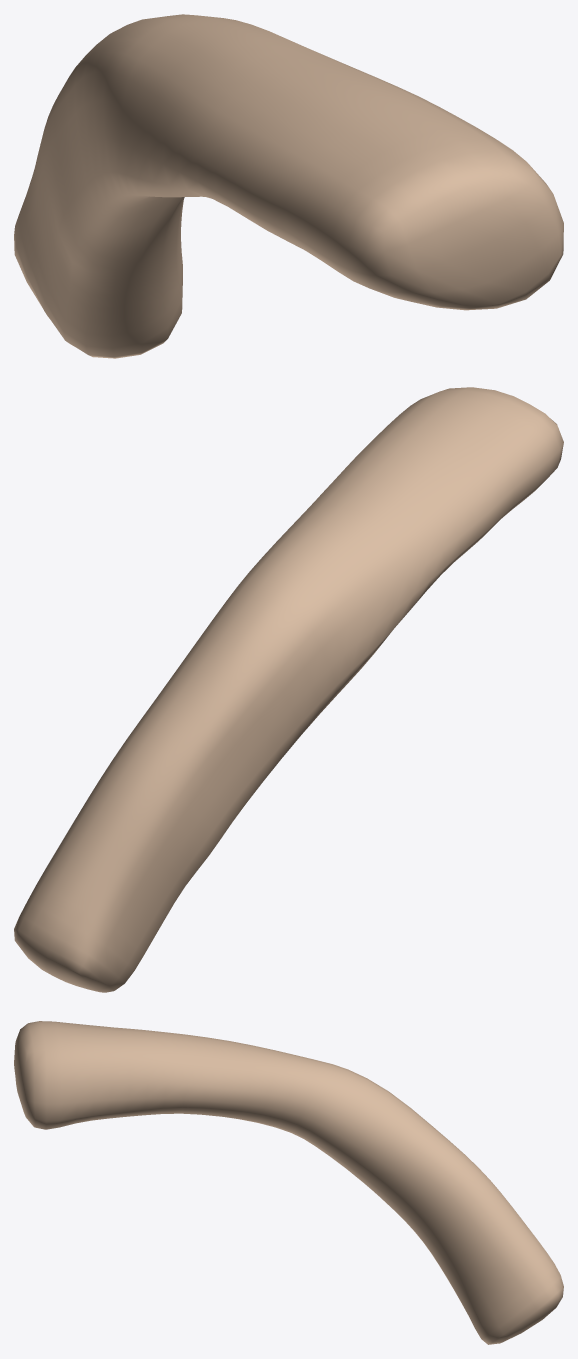
3 renders of one model, top to bottom at view 1: azimuth 30°, elevation 25°; view 2: azimuth 150°, elevation 25°; view 3: azimuth 270°, elevation 25°, orthographic. The views are drawn at different scales.
Visible parts, largest first — view 1: 左侧腓骨肌总腱鞘; view 2: 左侧腓骨肌总腱鞘; view 3: 左侧腓骨肌总腱鞘.
Boxes of the visible parts, x1,y1,x2,y2 form: 左侧腓骨肌总腱鞘: (14,14,563,358); 左侧腓骨肌总腱鞘: (14,387,563,992); 左侧腓骨肌总腱鞘: (14,1021,563,1344).
Bounding box in the file's own units: 0.0197 × 0.0356 × 0.0631.
